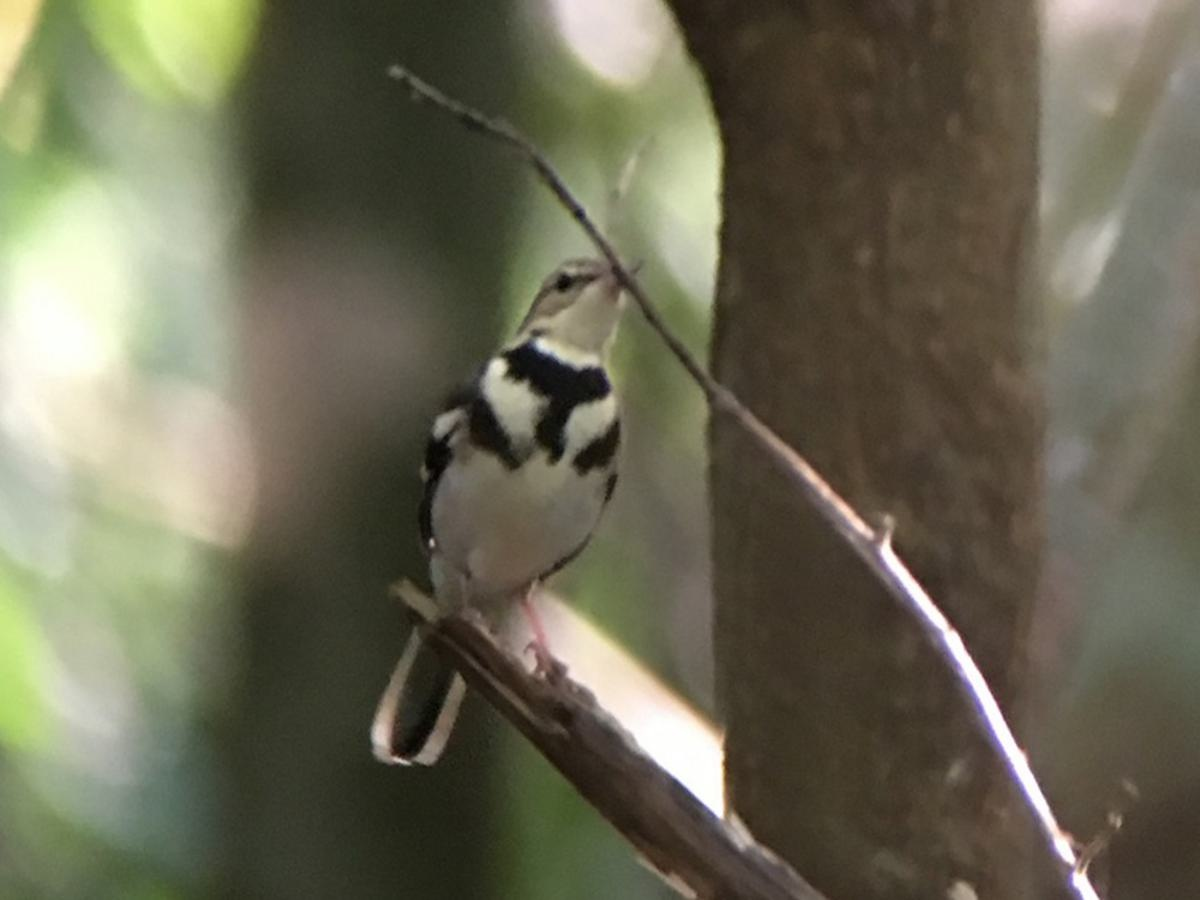wagtail: (368, 253, 643, 692)
